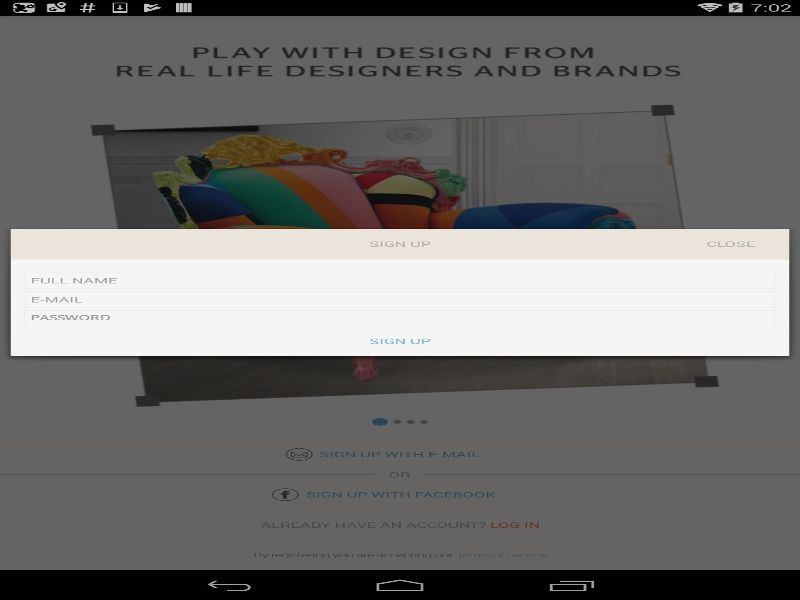Button: (672, 229, 789, 259), (341, 326, 458, 356)
Input: (24, 272, 776, 288), (24, 291, 776, 307), (24, 310, 776, 325)
